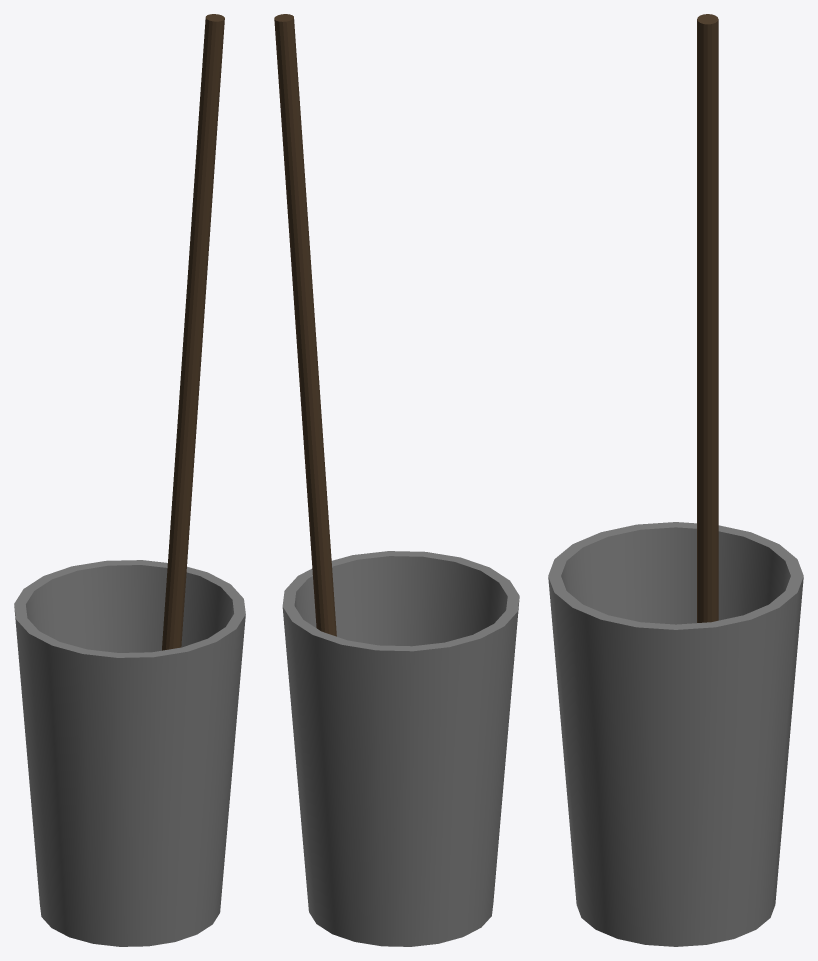
File: MopBucket.fbx
The picture shows the model from 3 angles, left to right: view 1: azimuth 30°, elevation 25°; view 2: azimuth 150°, elevation 25°; view 3: azimuth 270°, elevation 25°; orthographic projection. The views are drawn at different scales.
Visible parts, largest first — view 1: propMopBucket; view 2: propMopBucket; view 3: propMopBucket.
Part boxes in pixels (x1,y1,x2,y2): propMopBucket: [14, 14, 245, 946]; propMopBucket: [274, 14, 519, 946]; propMopBucket: [548, 14, 803, 946].
Size of the model in its own units: 50.07 by 196 by 48.31.
2 materials, 1 textured.
